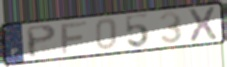0: (94, 16, 119, 52)
3: (158, 10, 183, 46)
5: (124, 12, 151, 50)
F: (59, 20, 89, 56)
P: (24, 23, 58, 60)
X: (186, 6, 219, 44)
